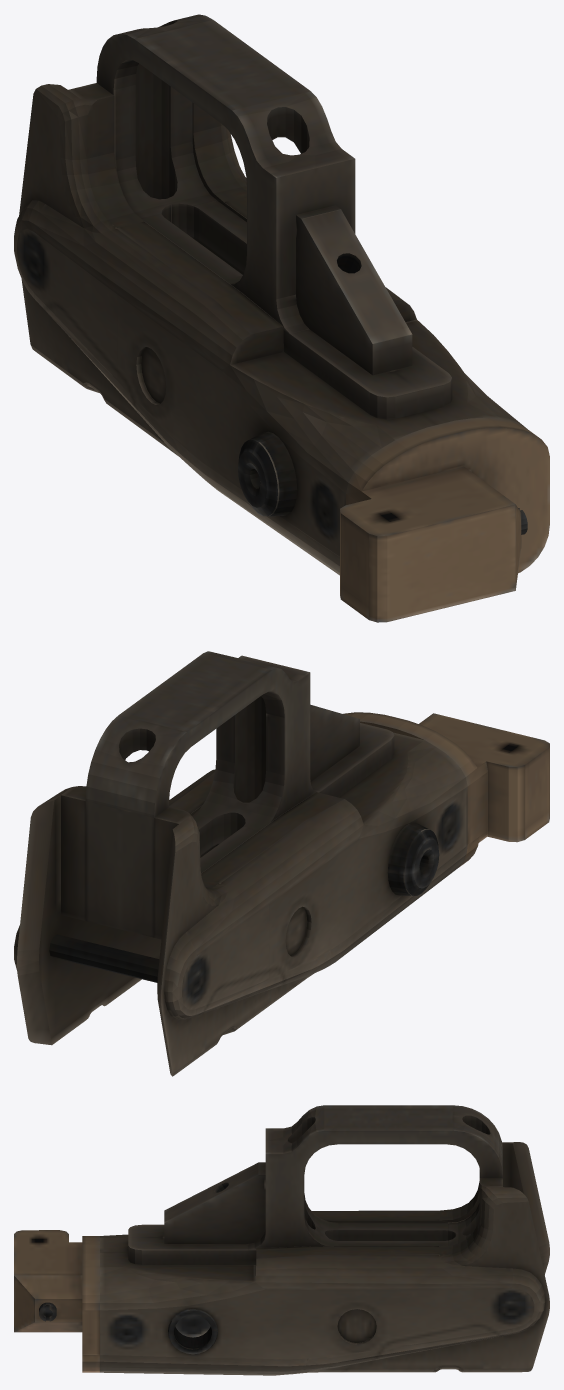
3 renders of one model, top to bottom at view 1: azimuth 30°, elevation 25°; view 2: azimuth 150°, elevation 25°; view 3: azimuth 270°, elevation 25°, orthographic. The views are drawn at different scales.
Visible parts, largest first — view 1: TW_62811e335631d45211793c95_PZ_Import; view 2: TW_62811e335631d45211793c95_PZ_Import; view 3: TW_62811e335631d45211793c95_PZ_Import.
Boxes of the visible parts, x1,y1,x2,y2 form: TW_62811e335631d45211793c95_PZ_Import: (14, 14, 549, 622); TW_62811e335631d45211793c95_PZ_Import: (14, 651, 549, 1076); TW_62811e335631d45211793c95_PZ_Import: (14, 1105, 549, 1375).
Bounding box in the file's own units: 0.0309 × 0.0949 × 0.0462.
1 material, 1 textured.
